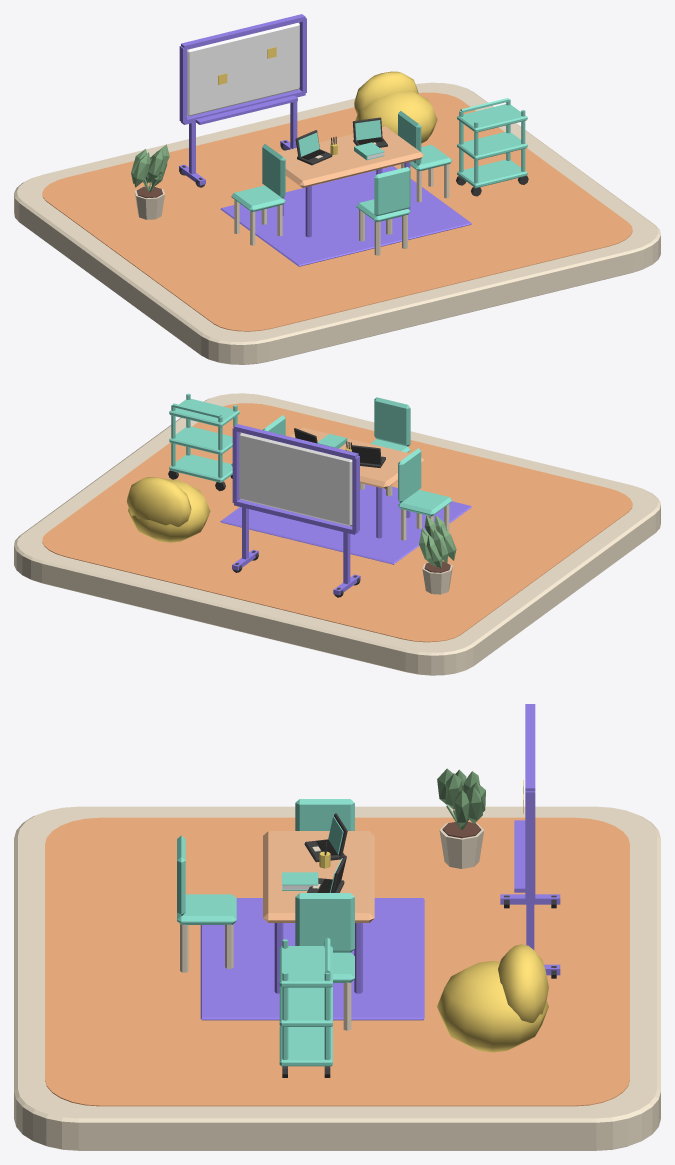
Rendered from room.fbx.
3 renders of one model, top to bottom at view 1: azimuth 30°, elevation 25°; view 2: azimuth 150°, elevation 25°; view 3: azimuth 270°, elevation 25°, orthographic. The views are drawn at different scales.
Parts seen in each view (by area): view 1: COM-02 Floor Surface, COM-01 Rounded Base Direct, Rug, Writing surface, Rounded table top, Beanbag shell, Pot, Backrest.002, Back bolster, Tray.002, Tray.001, Tray (+8 smaller); view 2: COM-02 Floor Surface, COM-01 Rounded Base Direct, Writing surface, Rug, Back bolster, Pot, Beanbag shell, Backrest.002, Rounded table top, Tray, Tray.001, Tray.002 (+7 smaller); view 3: COM-02 Floor Surface, COM-01 Rounded Base Direct, Rug, Rounded table top, Beanbag shell, Pot, Backrest.001, Back bolster, Tray.002, Tray, Tray.001, Backrest (+6 smaller).
Boxes of the visible parts, x1=… form: COM-02 Floor Surface: x1=42, y1=92, x2=632, y2=331; COM-01 Rounded Base Direct: x1=14, y1=82, x2=660, y2=364; Rug: x1=220, y1=166, x2=471, y2=266; Writing surface: x1=187, y1=23, x2=299, y2=116; Rounded table top: x1=277, y1=126, x2=423, y2=187; Beanbag shell: x1=355, y1=90, x2=437, y2=143; Pot: x1=131, y1=144, x2=169, y2=219; Backrest.002: x1=374, y1=167, x2=410, y2=216; Back bolster: x1=354, y1=71, x2=418, y2=114; Tray.002: x1=457, y1=104, x2=527, y2=132; Tray.001: x1=457, y1=132, x2=527, y2=160; Tray: x1=457, y1=159, x2=527, y2=188; COM-02 Floor Surface: x1=42, y1=403, x2=632, y2=642; COM-01 Rounded Base Direct: x1=14, y1=393, x2=660, y2=675; Writing surface: x1=239, y1=432, x2=352, y2=526; Rug: x1=220, y1=484, x2=471, y2=564; Back bolster: x1=127, y1=477, x2=191, y2=526; Pot: x1=419, y1=515, x2=456, y2=594; Beanbag shell: x1=128, y1=479, x2=210, y2=542; Backrest.002: x1=374, y1=397, x2=410, y2=446; Rounded table top: x1=290, y1=427, x2=423, y2=488; Tray: x1=169, y1=454, x2=232, y2=482; Tray.001: x1=169, y1=426, x2=232, y2=454; Tray.002: x1=169, y1=399, x2=239, y2=427; COM-02 Floor Surface: x1=45, y1=817, x2=629, y2=1106; COM-01 Rounded Base Direct: x1=14, y1=806, x2=660, y2=1150; Rug: x1=200, y1=898, x2=424, y2=1020; Rounded table top: x1=263, y1=831, x2=374, y2=922; Beanbag shell: x1=437, y1=961, x2=548, y2=1052; Pot: x1=437, y1=768, x2=485, y2=868; Backrest.001: x1=295, y1=893, x2=354, y2=952; Back bolster: x1=498, y1=944, x2=548, y2=1022; Tray.002: x1=279, y1=946, x2=332, y2=987; Tray: x1=279, y1=1026, x2=332, y2=1066; Tray.001: x1=279, y1=986, x2=332, y2=1026; Backrest: x1=295, y1=799, x2=354, y2=830.
Size of the model in its own units: 600 by 204 by 520.
